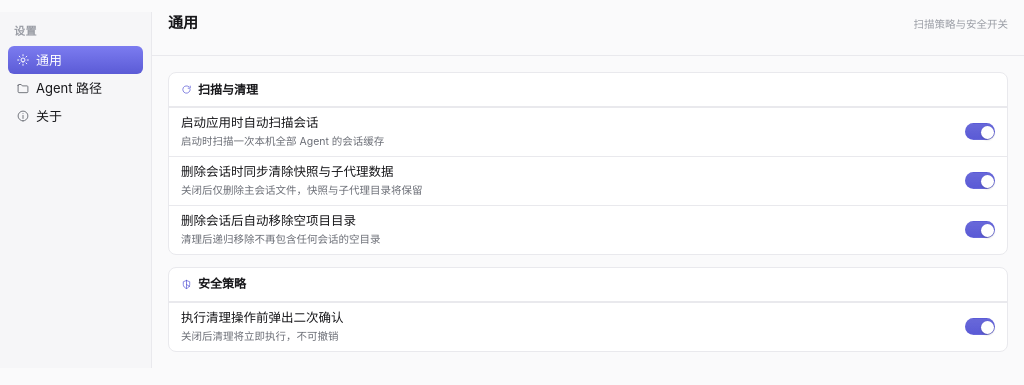
Test: SettingsView · 关于页与导航 › 三个页签可切，关于页显示版本与三格事实
The width and height of the screenshot is (1024, 385).
Expected: the heading "通用" is shown, [168,12,198,34]
Click the button "关于".
click(76, 116)  # box [8,102,143,130]
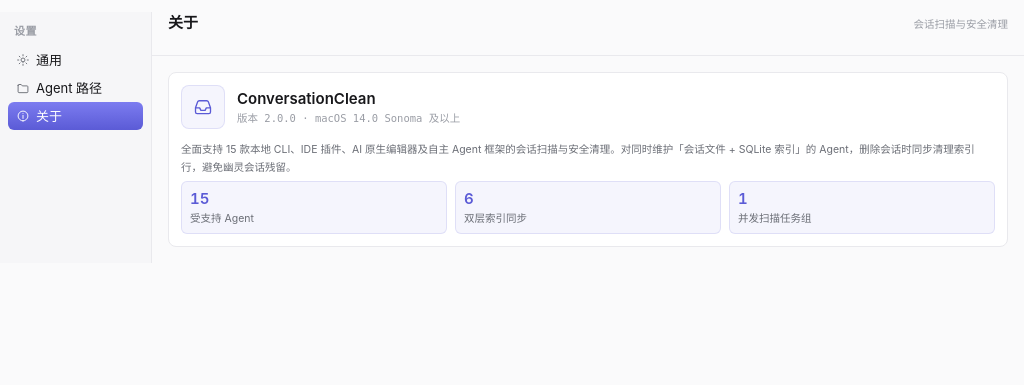
Expected: the heading "关于" is shown, [168,12,198,34]
Expected: the text "版本 2.0.0 · macOS 14.0 Sonoma 及以上" is shown, [237,111,460,126]
Expected: the text "受支持 Agent" is shown, [190,212,254,225]
